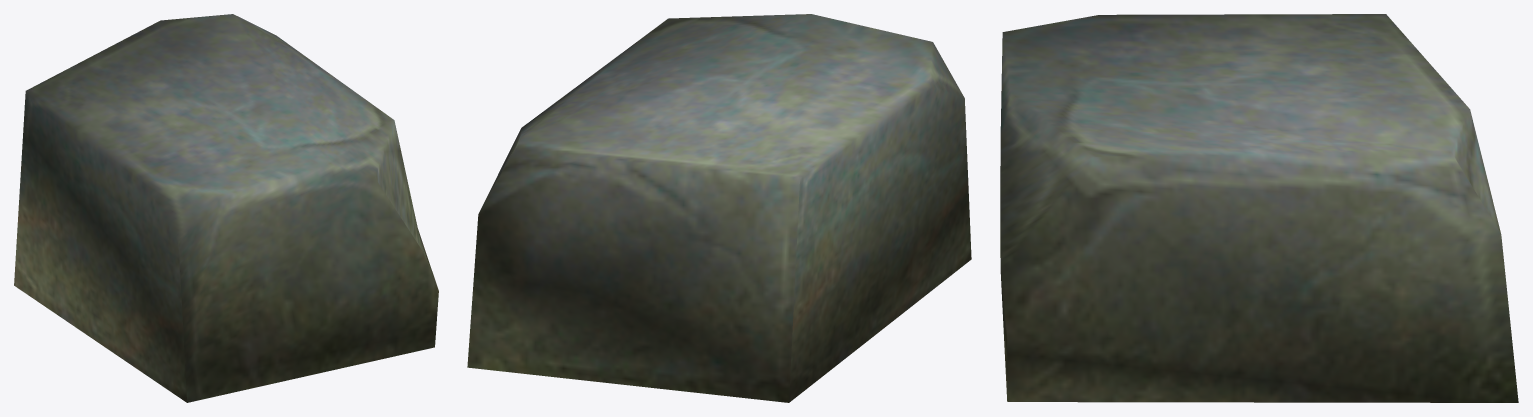
Rendered from wlf_shitou12_w.FBX.
3 renders of one model, left to right at view 1: azimuth 30°, elevation 25°; view 2: azimuth 150°, elevation 25°; view 3: azimuth 270°, elevation 25°, orthographic. The views are drawn at different scales.
Visible parts, largest first — view 1: wlf_shitou12_w; view 2: wlf_shitou12_w; view 3: wlf_shitou12_w.
Part boxes in pixels (<box>): wlf_shitou12_w: <box>14,14,438,402</box>; wlf_shitou12_w: <box>467,14,971,402</box>; wlf_shitou12_w: <box>1000,14,1518,402</box>.
Bounding box in the file's own units: 12.85 × 9.84 × 18.69.
